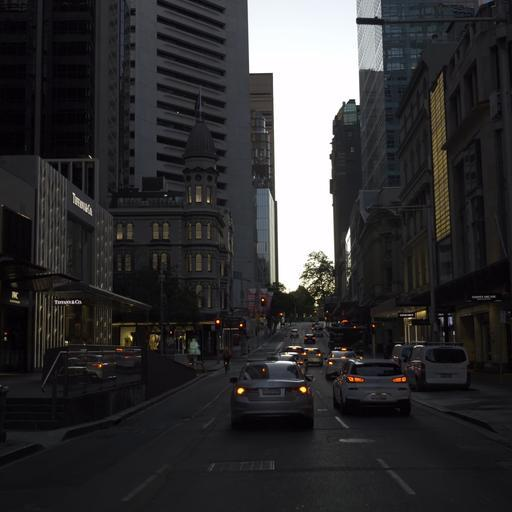Street light: (365, 201, 439, 341), (214, 318, 220, 329), (259, 296, 265, 306), (238, 321, 244, 330)
